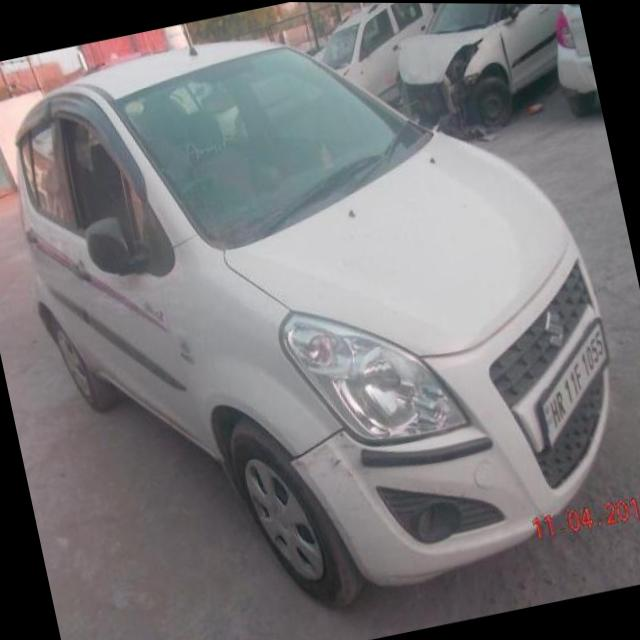Car-Damage: (293, 433, 380, 528), (325, 442, 351, 477)
